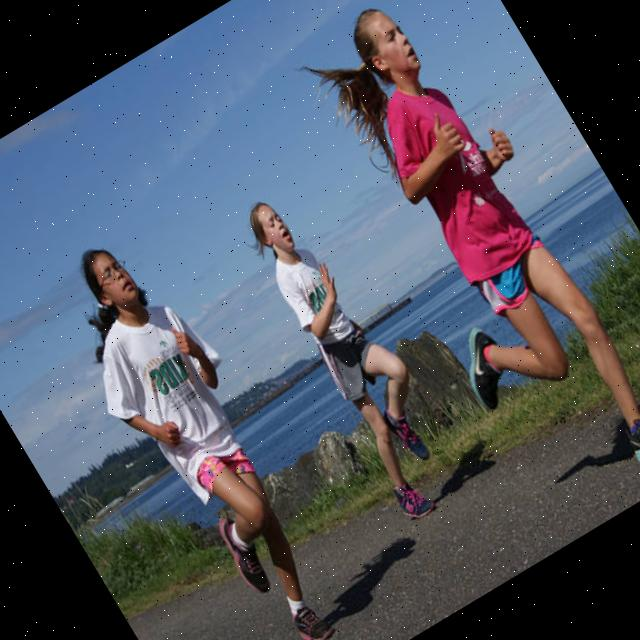Person: (278, 0, 640, 526), (31, 220, 372, 640), (228, 181, 477, 524)
